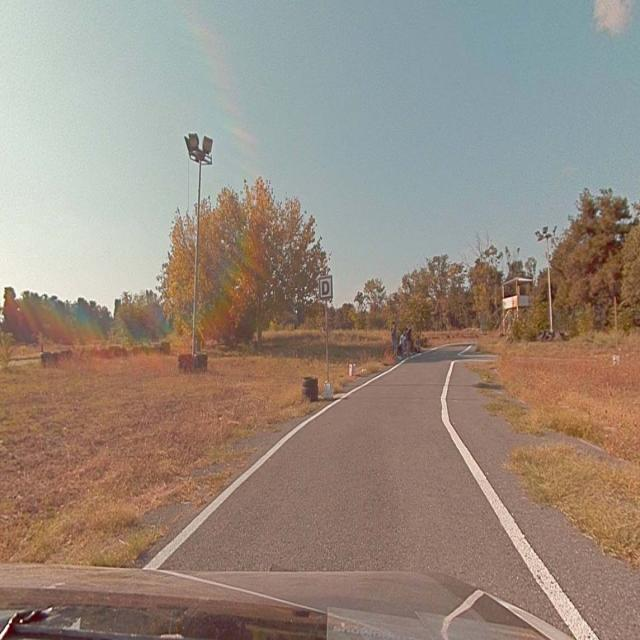durak: (320, 277, 332, 298)
